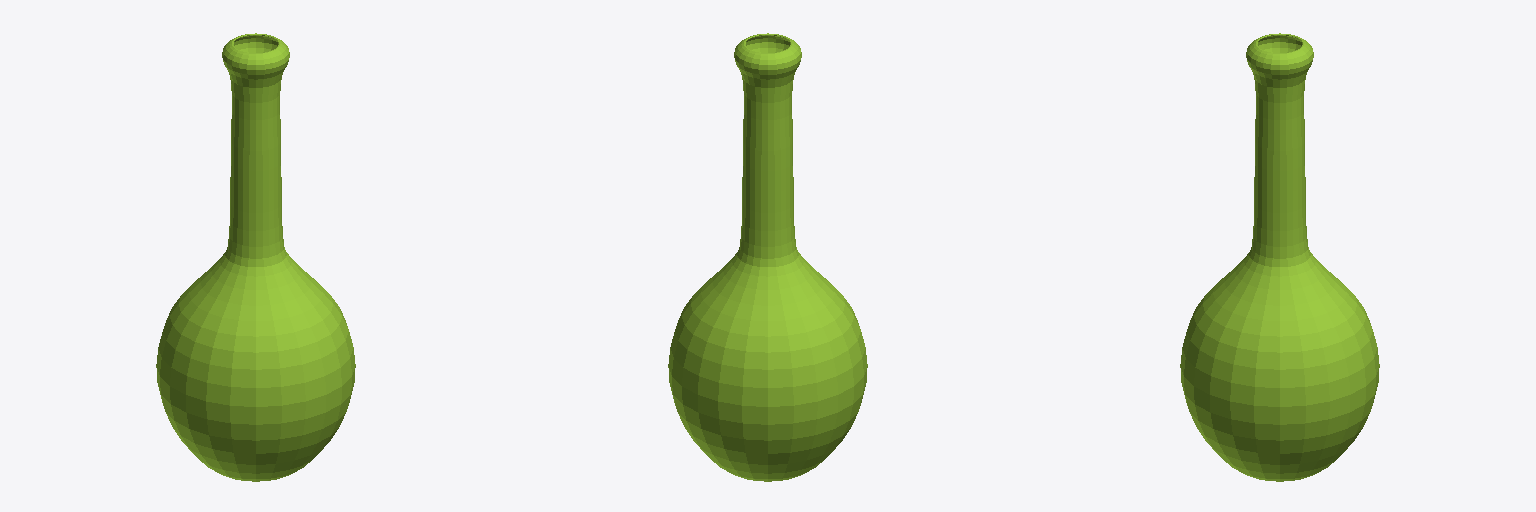
File: poison_bottle.obj
3 renders of one model, left to right at view 1: azimuth 30°, elevation 25°; view 2: azimuth 150°, elevation 25°; view 3: azimuth 270°, elevation 25°, orthographic.
Visible parts, largest first — view 1: Plane-noimp; view 2: Plane-noimp; view 3: Plane-noimp.
Part boxes in pixels (bbox=[...]): Plane-noimp: bbox=[156, 33, 355, 481]; Plane-noimp: bbox=[668, 33, 867, 481]; Plane-noimp: bbox=[1180, 33, 1379, 481].
Bounding box in the file's own units: 1.05 × 2.48 × 1.05.